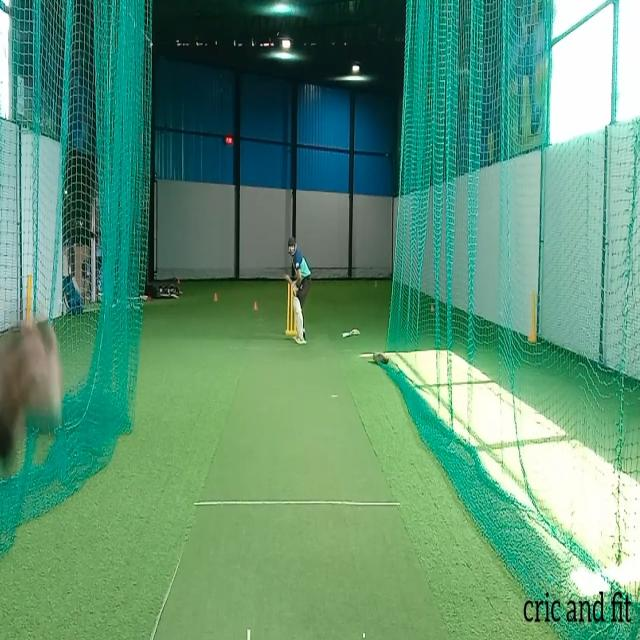batsman: (282, 235, 312, 346)
